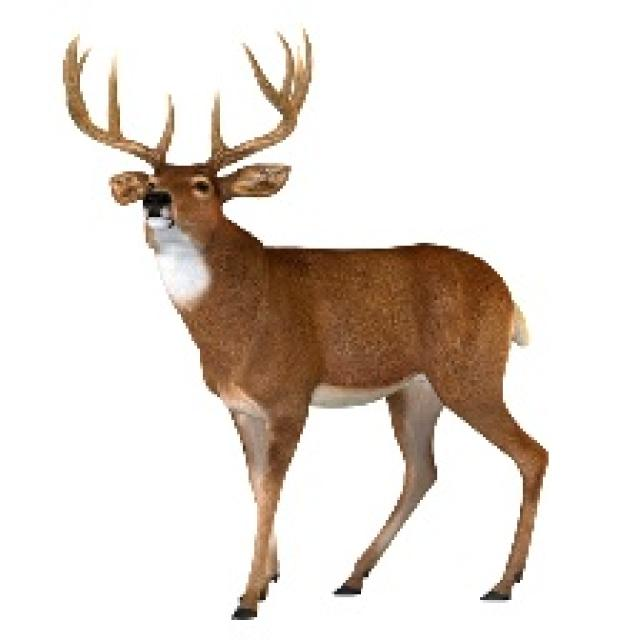bear: (79, 11, 599, 611)
